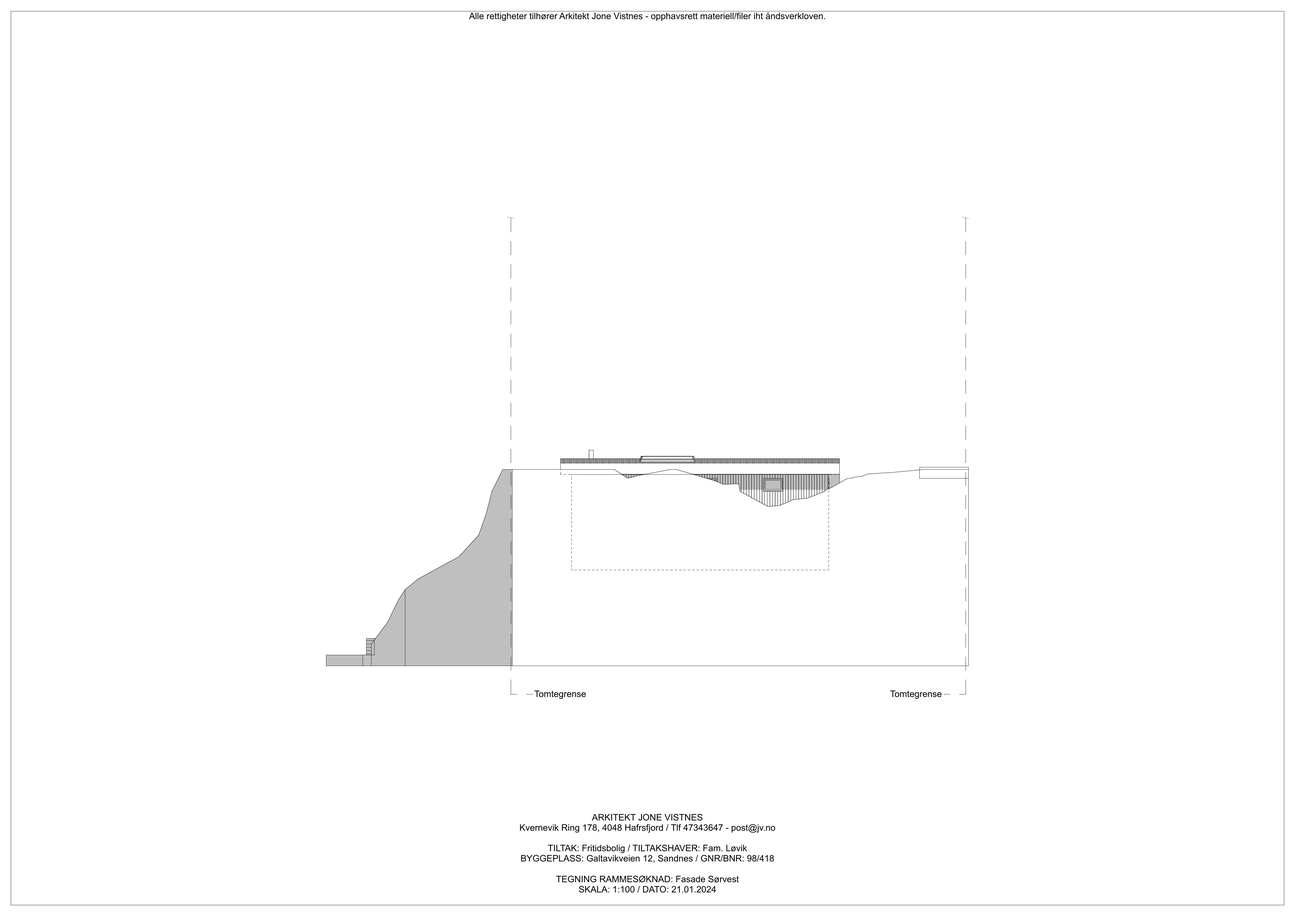fasade: (505, 448, 972, 674)
